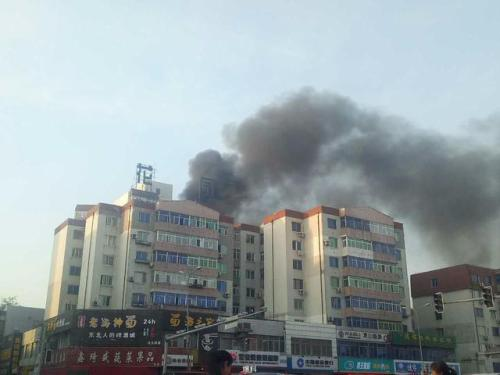smoke: (199, 93, 497, 212)
